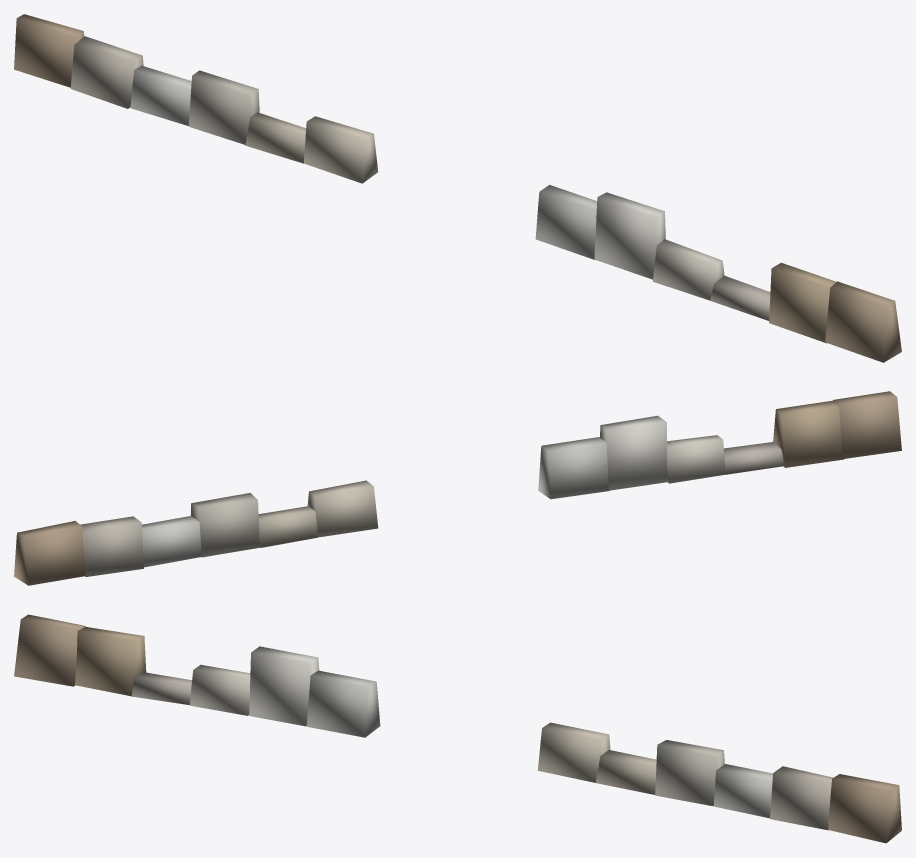
Rendered from farm_13_9_far.glb.
The picture shows the model from 3 angles, top to bottom: view 1: azimuth 90°, elevation 25°; view 2: azimuth 150°, elevation 25°; view 3: azimuth 270°, elevation 25°; orthographic projection. The views are drawn at different scales.
Parts seen in each view (by area): view 1: geometry_0; view 2: geometry_0; view 3: geometry_0.
Part boxes in pixels (x1,y1,x2,y2): geometry_0: (14,14,901,362); geometry_0: (14,391,901,585); geometry_0: (14,614,901,843).
Size of the model in its own units: 12.8 by 2.78 by 19.91.
